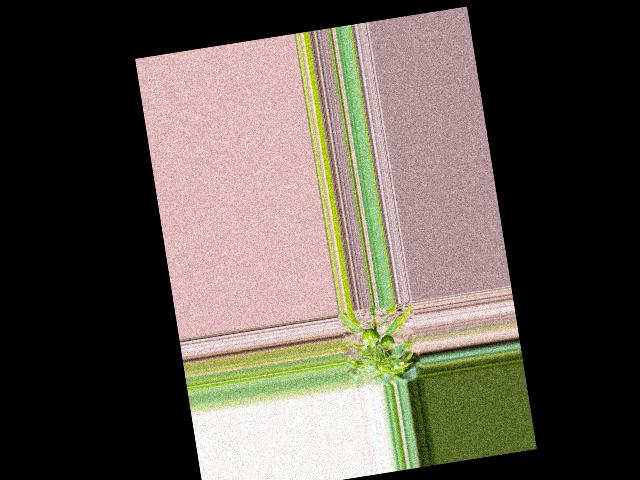bell_pepper: (379, 333, 396, 349)
